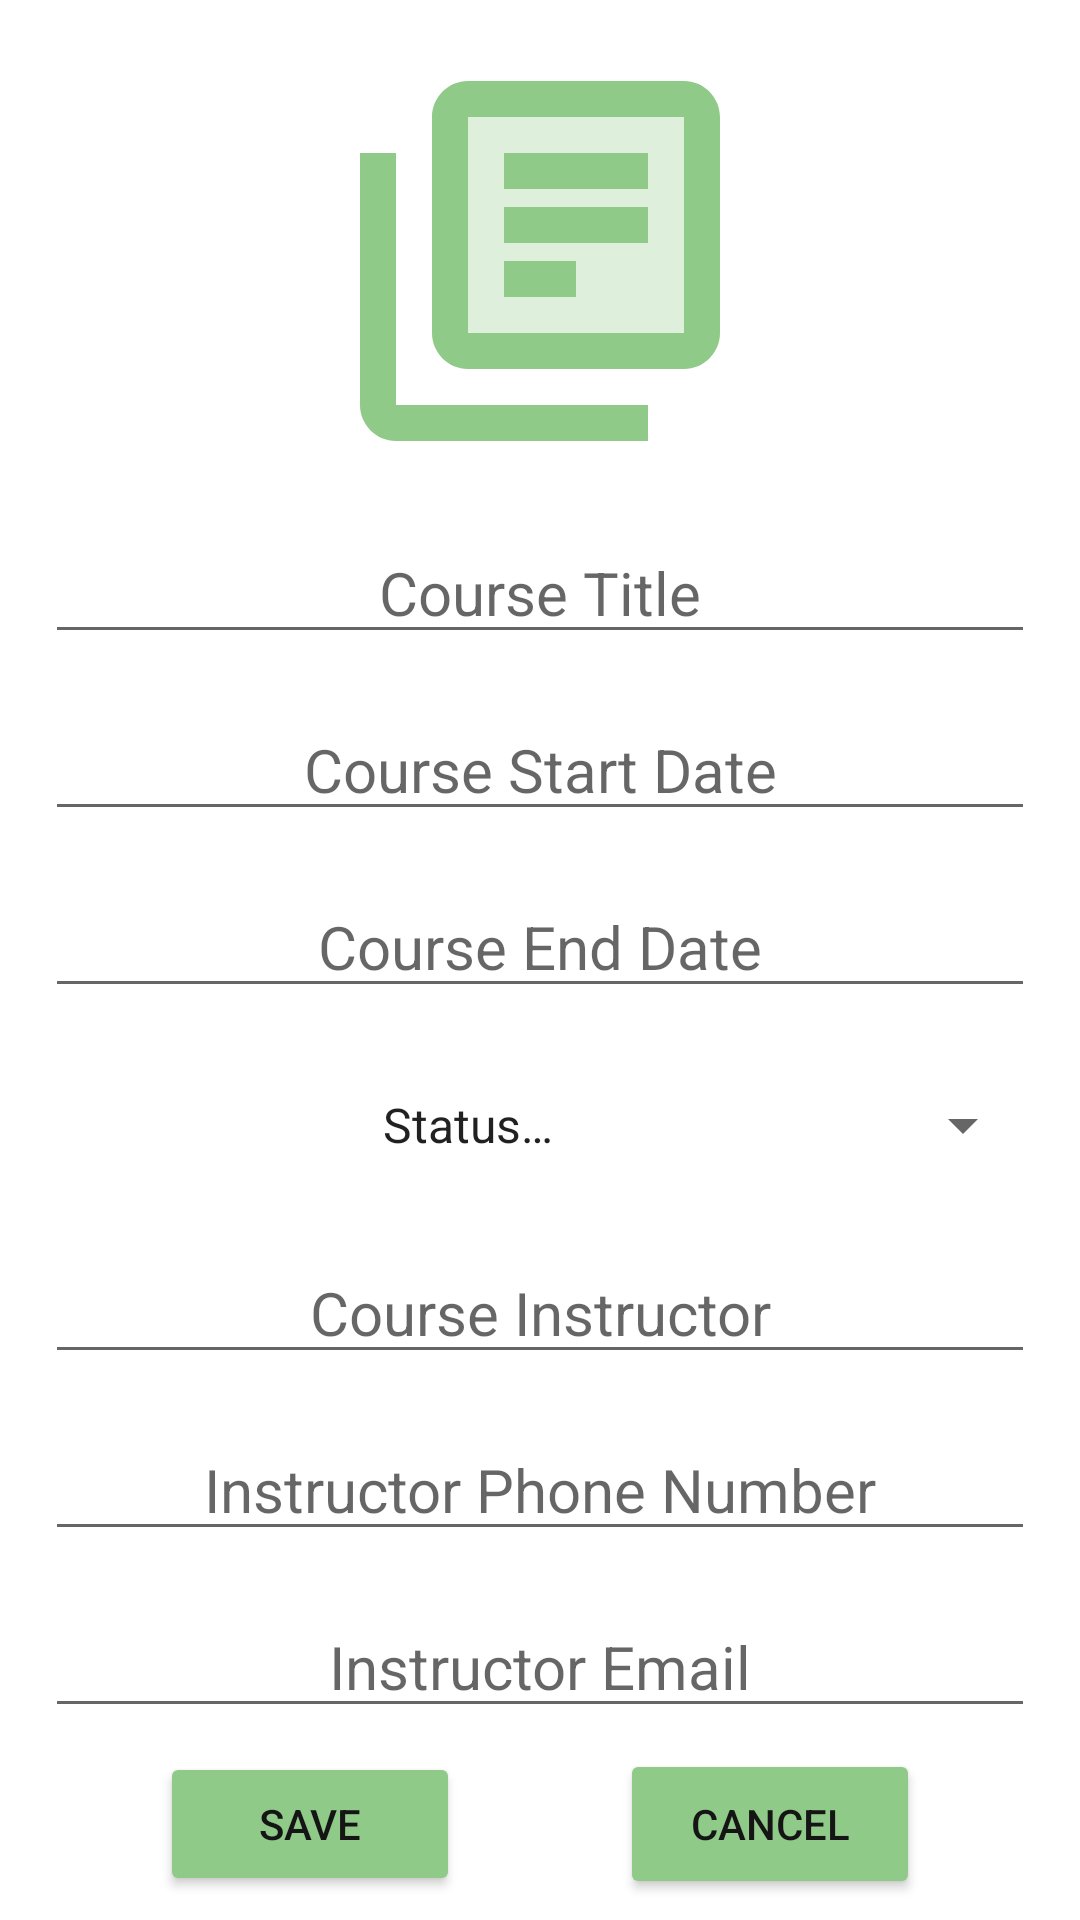

Screen size 1080*1920. Icon name, then its center in pixels as (x=x, y=y):
library books: (x=540, y=261)
